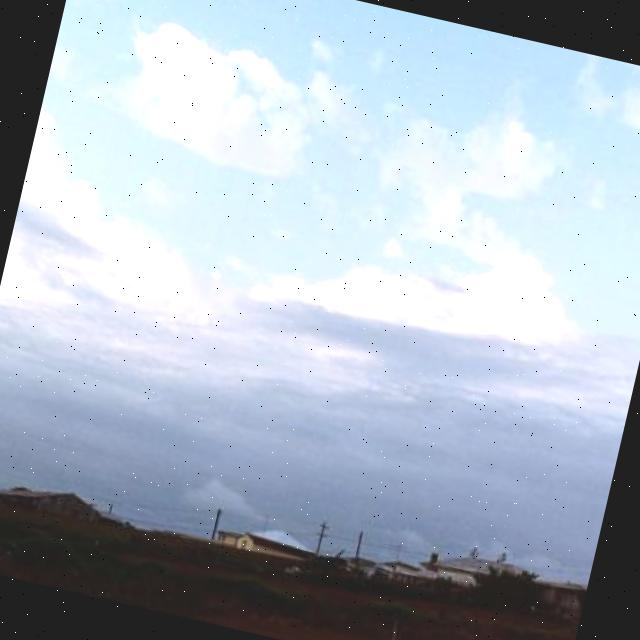Sc: (1, 100, 640, 529)
